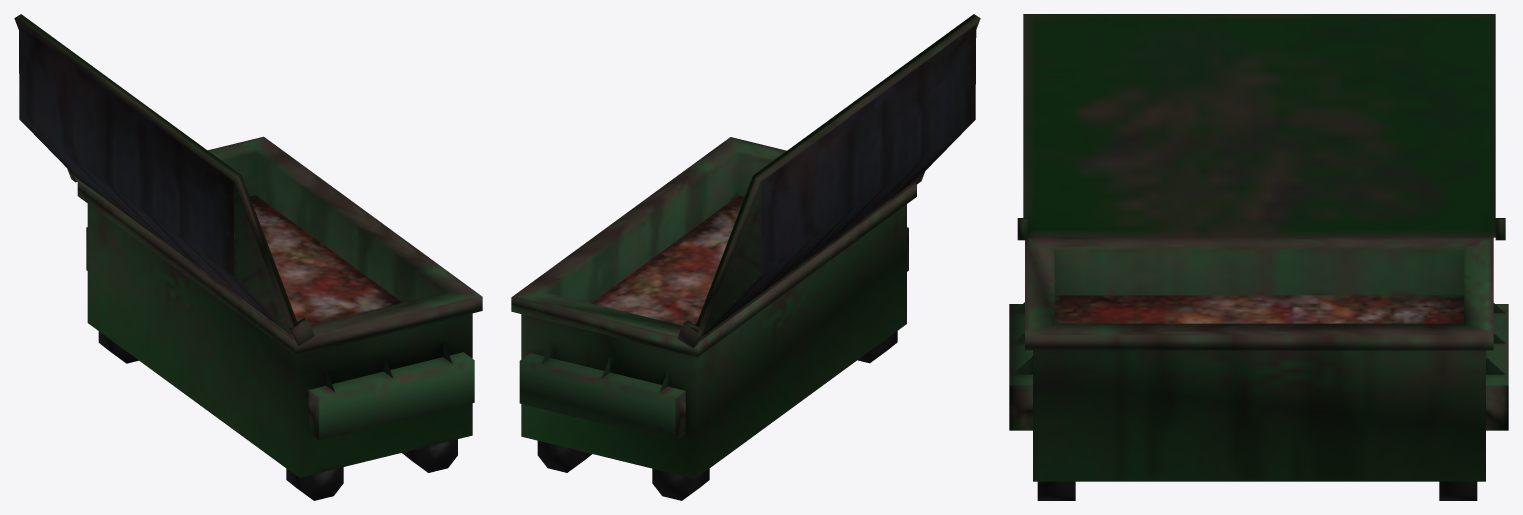
Rendered from Garbage.fbx.
The picture shows the model from 3 angles, left to right: view 1: azimuth 30°, elevation 25°; view 2: azimuth 150°, elevation 25°; view 3: azimuth 270°, elevation 25°; orthographic projection. The views are drawn at different scales.
Parts seen in each view (by area): view 1: Cube.028, Cube.029; view 2: Cube.028, Cube.029; view 3: Cube.028, Cube.029.
Boxes of the visible parts, x1=… form: Cube.028: x1=77, y1=136, x2=482, y2=500; Cube.029: x1=14, y1=14, x2=314, y2=345; Cube.028: x1=511, y1=137, x2=916, y2=500; Cube.029: x1=677, y1=14, x2=980, y2=348; Cube.028: x1=1009, y1=237, x2=1508, y2=500; Cube.029: x1=1017, y1=14, x2=1505, y2=240.
Size of the model in its own units: 411 by 553 by 668.
